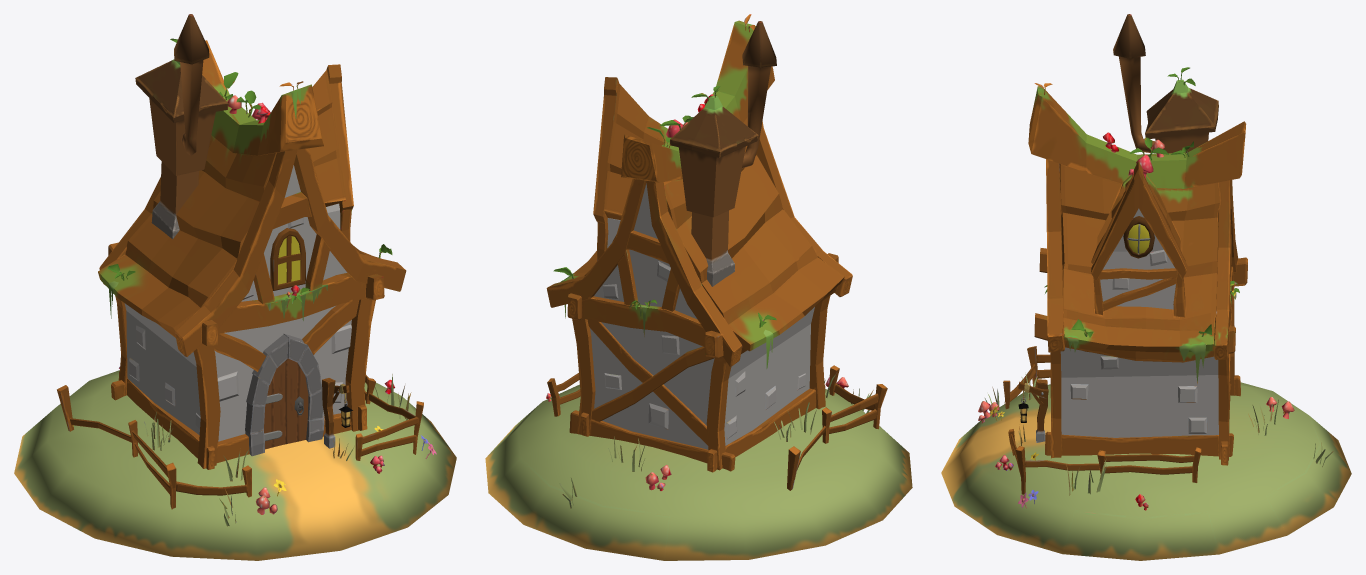
File: cottage.glb
3 views of the same model, side by side, from view 1: azimuth 30°, elevation 25°; view 2: azimuth 150°, elevation 25°; view 3: azimuth 270°, elevation 25° (orthographic). The views are drawn at different scales.
Parts seen in each view (by area): view 1: Stylized_cottage_1; view 2: Stylized_cottage_1; view 3: Stylized_cottage_1.
Boxes of the visible parts, x1,y1,x2,y2 form: Stylized_cottage_1: [14, 14, 456, 560]; Stylized_cottage_1: [485, 14, 912, 560]; Stylized_cottage_1: [941, 14, 1351, 560].
Bounding box in the file's own units: 89.49 × 105 × 89.49.
1 material, 1 textured.
